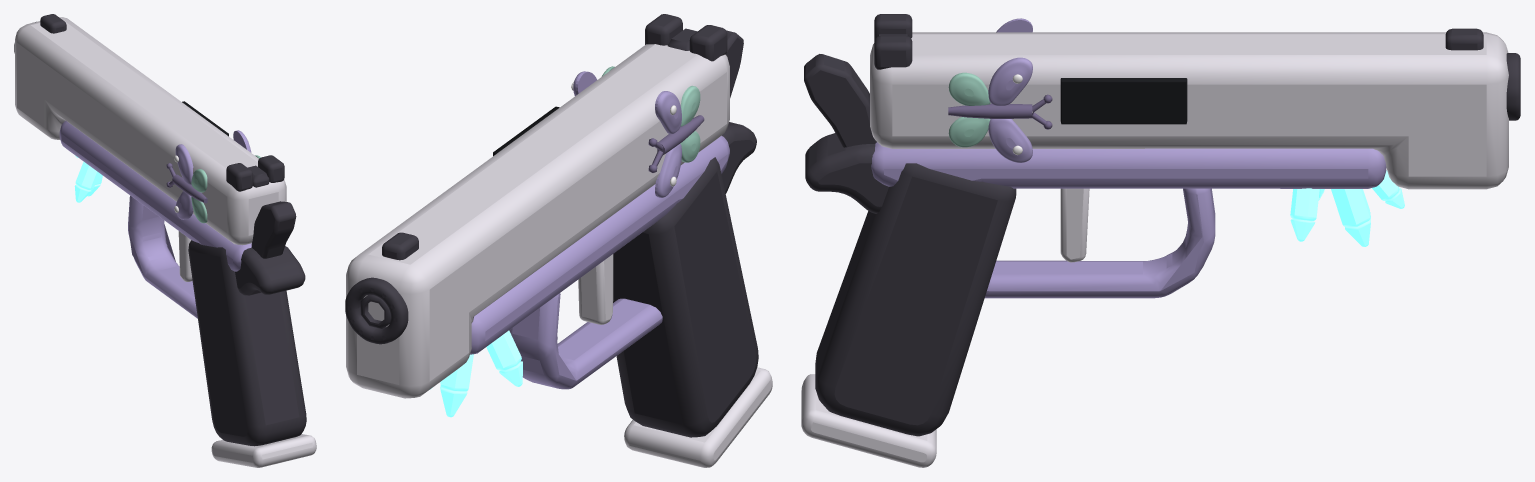
File: w_pistol@pistol_cute_c.glb
3 views of the same model, side by side, from view 1: azimuth 30°, elevation 25°; view 2: azimuth 150°, elevation 25°; view 3: azimuth 270°, elevation 25° (orthographic). The views are drawn at different scales.
Parts seen in each view (by area): view 1: slide_wzA, grip_wzB, body_wzA, mag_wzN, hammer_wzN, slide_wzN.001, slide_wzN.003, body_wzN.001, slide_wzN.002, body_wzN, slide_wzN.005; view 2: slide_wzA, grip_wzB, body_wzA, slide_wzN.001, mag_wzN, body_wzN.001, slide_wzN.003, body_wzN, slide_wzN.002, slide_wzN.005, hammer_wzN, body_wzB; view 3: slide_wzA, grip_wzB, body_wzA, slide_wzN, mag_wzN, hammer_wzN, slide_wzN.001, body_wzN.001, slide_wzN.003, slide_wzN.002, body_wzN, slide_wzN.005.
Part boxes in pixels (x1,y1,x2,y2): slide_wzA: [15, 17, 286, 245]; grip_wzB: [188, 240, 306, 446]; body_wzA: [59, 121, 251, 318]; mag_wzN: [211, 434, 316, 467]; hammer_wzN: [251, 201, 296, 258]; slide_wzN.001: [14, 14, 284, 191]; slide_wzN.003: [175, 130, 251, 219]; body_wzN.001: [74, 155, 102, 202]; slide_wzN.002: [191, 155, 260, 223]; body_wzN: [178, 231, 192, 281]; slide_wzN.005: [166, 163, 207, 203]; slide_wzA: [346, 44, 729, 398]; grip_wzB: [613, 122, 758, 437]; body_wzA: [470, 135, 729, 389]; slide_wzN.001: [345, 14, 727, 344]; mag_wzN: [624, 367, 772, 467]; body_wzN.001: [430, 330, 522, 417]; slide_wzN.003: [573, 71, 681, 197]; body_wzN: [578, 254, 613, 324]; slide_wzN.002: [601, 66, 700, 162]; slide_wzN.005: [648, 115, 704, 172]; hammer_wzN: [726, 30, 743, 97]; body_wzB: [360, 294, 390, 328]; slide_wzA: [870, 32, 1508, 189]; grip_wzB: [805, 133, 1016, 436]; body_wzA: [871, 142, 1386, 298]; slide_wzN: [1060, 78, 1187, 124]; mag_wzN: [801, 374, 936, 467]; hammer_wzN: [804, 54, 876, 147]; slide_wzN.001: [874, 14, 1520, 120]; body_wzN.001: [1290, 170, 1404, 246]; slide_wzN.003: [988, 18, 1032, 162]; slide_wzN.002: [948, 72, 990, 147]; body_wzN: [1060, 188, 1089, 262]; slide_wzN.005: [948, 94, 1052, 129].
Size of the model in its own units: 0.0561 by 0.2198 by 0.34.
